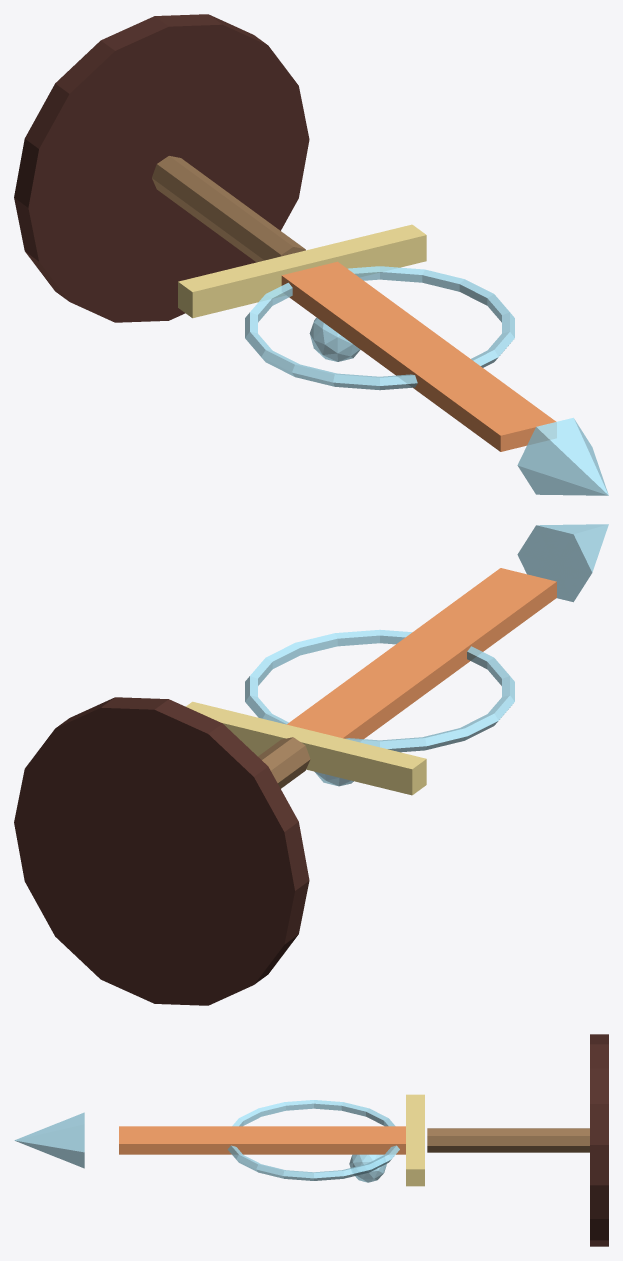
File: 03_high_tier_magic_weapon.glb
3 views of the same model, one above another, from view 1: azimuth 30°, elevation 25°; view 2: azimuth 150°, elevation 25°; view 3: azimuth 270°, elevation 25° (orthographic). The views are drawn at different scales.
Visible parts, largest first — view 1: weapon_display_base, magic_blade_or_staff_core, relic_guard, weapon_aura_ring, weapon_grip, weapon_tip, socketed_gem; view 2: weapon_display_base, magic_blade_or_staff_core, relic_guard, weapon_aura_ring, weapon_tip, weapon_grip; view 3: magic_blade_or_staff_core, weapon_grip, weapon_display_base, weapon_aura_ring, weapon_tip, relic_guard, socketed_gem.
Boxes of the visible parts, x1,y1,x2,y2 form: weapon_display_base: (14,14,309,322); magic_blade_or_staff_core: (281,261,556,451); relic_guard: (178,224,426,318); weapon_aura_ring: (245,266,514,390); weapon_grip: (152,156,305,262); weapon_tip: (517,417,608,495); socketed_gem: (309,317,360,361); weapon_display_base: (14,697,309,1005); magic_blade_or_staff_core: (287,568,556,741); relic_guard: (186,701,426,795); weapon_aura_ring: (245,629,514,752); weapon_tip: (517,524,608,602); weapon_grip: (258,737,310,788); magic_blade_or_staff_core: (119,1126,405,1154); weapon_grip: (427,1128,589,1152); weapon_display_base: (590,1034,608,1246); weapon_aura_ring: (227,1100,399,1180); weapon_tip: (14,1112,84,1168); relic_guard: (406,1094,424,1186); socketed_gem: (349,1154,386,1182).
Bounding box in the file's own units: 0.9 × 0.9 × 2.52.
